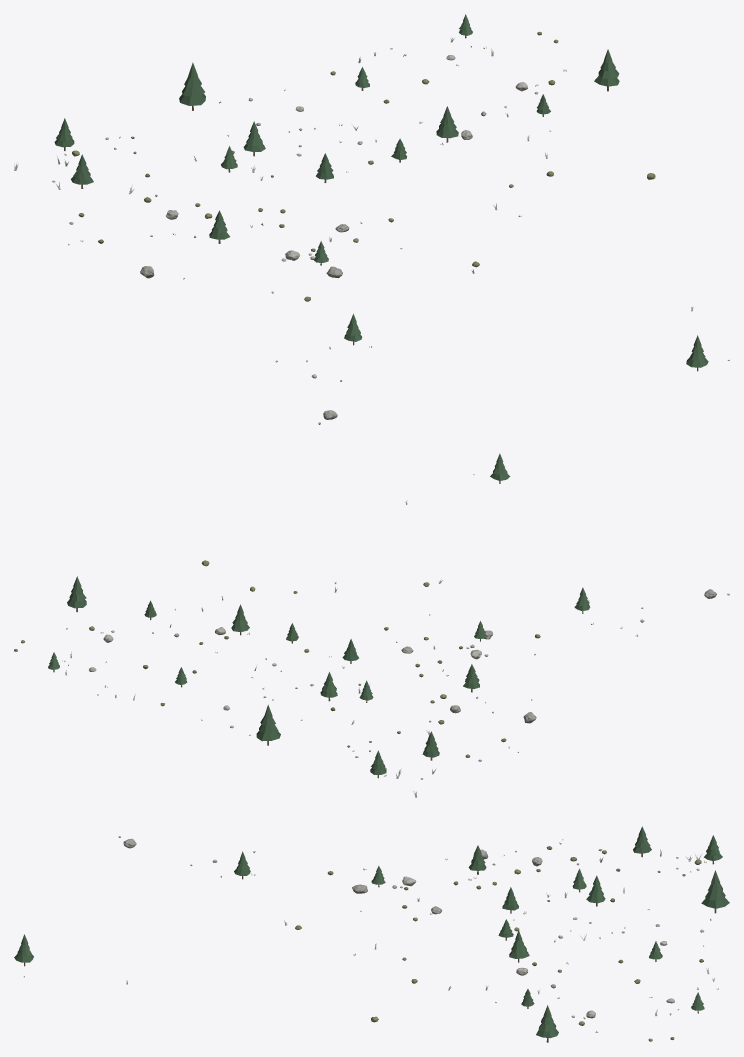
File: coast_land_scatter_c09_17.glb
The picture shows the model from 3 angles, top to bottom: view 1: azimuth 30°, elevation 25°; view 2: azimuth 150°, elevation 25°; view 3: azimuth 270°, elevation 25°; orthographic projection. The views are drawn at different scales.
Visible parts, largest first — view 1: coast_land_scatter_c09_17; view 2: coast_land_scatter_c09_17; view 3: coast_land_scatter_c09_17.
Part boxes in pixels (left/top/right/bottom): coast_land_scatter_c09_17: left=14, top=14, right=729, bottom=424; coast_land_scatter_c09_17: left=14, top=453, right=729, bottom=797; coast_land_scatter_c09_17: left=14, top=826, right=729, bottom=1042.
Size of the model in its own units: 204 by 28.58 by 263.
